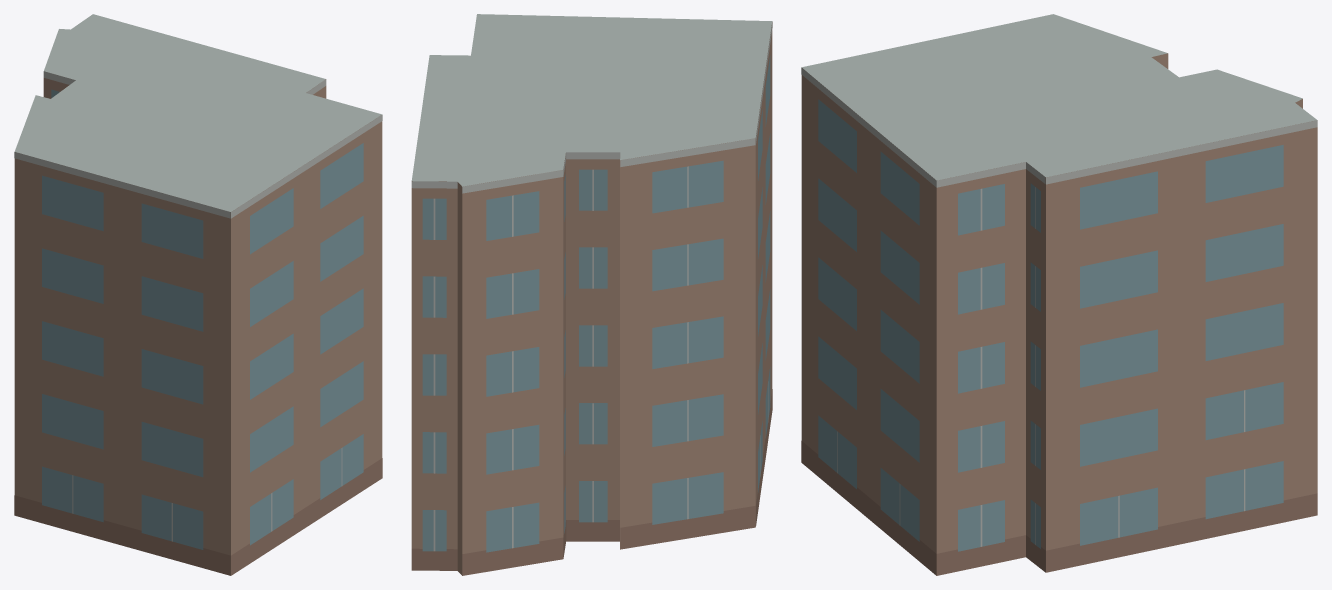
Rendered from survey-upis-32926800.glb.
3 renders of one model, left to right at view 1: azimuth 30°, elevation 25°; view 2: azimuth 150°, elevation 25°; view 3: azimuth 270°, elevation 25°, orthographic. The views are drawn at different scales.
Visible parts, largest first — view 1: survey-upis-32926800.tmp; view 2: survey-upis-32926800.tmp; view 3: survey-upis-32926800.tmp.
Part boxes in pixels (left/top/right/bottom): survey-upis-32926800.tmp: left=14, top=14, right=382, bottom=575; survey-upis-32926800.tmp: left=411, top=14, right=772, bottom=575; survey-upis-32926800.tmp: left=801, top=14, right=1317, bottom=575.
Size of the model in its own units: 12.21 by 13.5 by 15.98.
